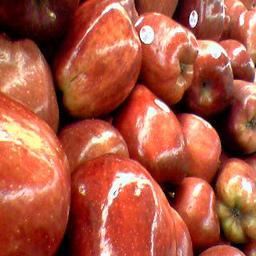apple: (67, 157, 197, 256), (1, 91, 71, 255), (52, 2, 143, 122), (1, 36, 56, 144), (120, 89, 184, 180), (134, 11, 195, 103), (170, 176, 223, 252), (182, 39, 233, 117), (213, 155, 256, 236), (173, 113, 221, 184), (59, 119, 129, 167), (1, 1, 77, 45), (222, 80, 256, 155)
